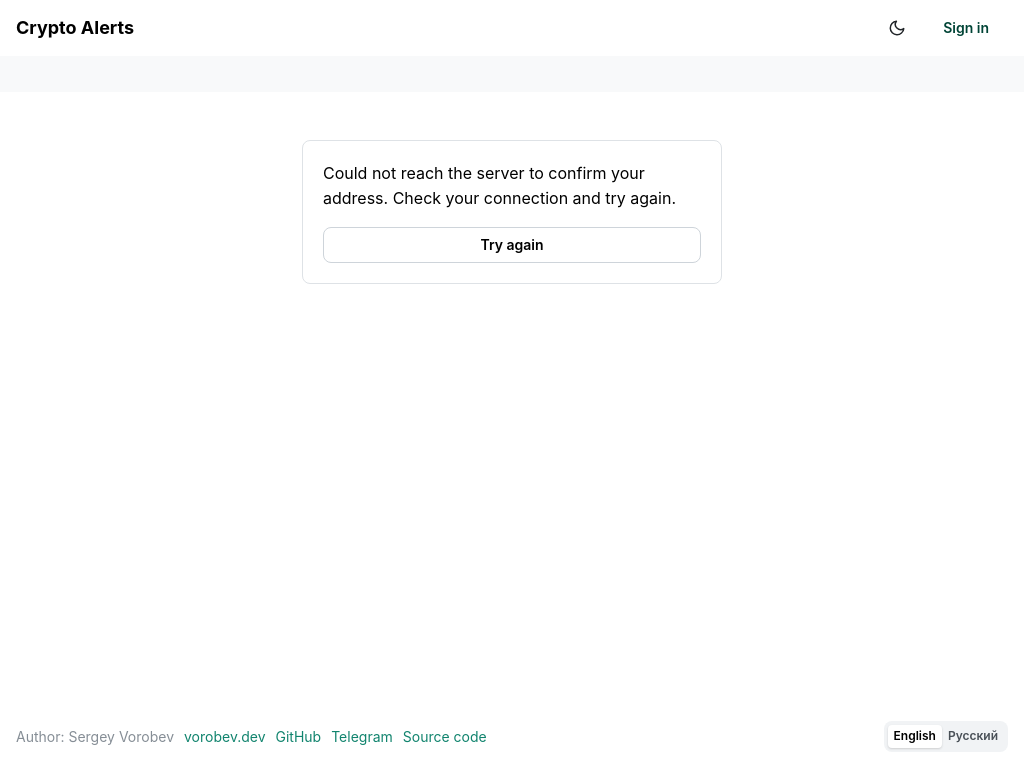
Test: the Verification landing › says a failed request is a failed request, not an answer about the link
Expected: the text "Could not reach the server to confirm your address. Check your connection and try again." is shown, [323,163,676,208]
Click the button "Try again": (512,245) [323,227,701,263]
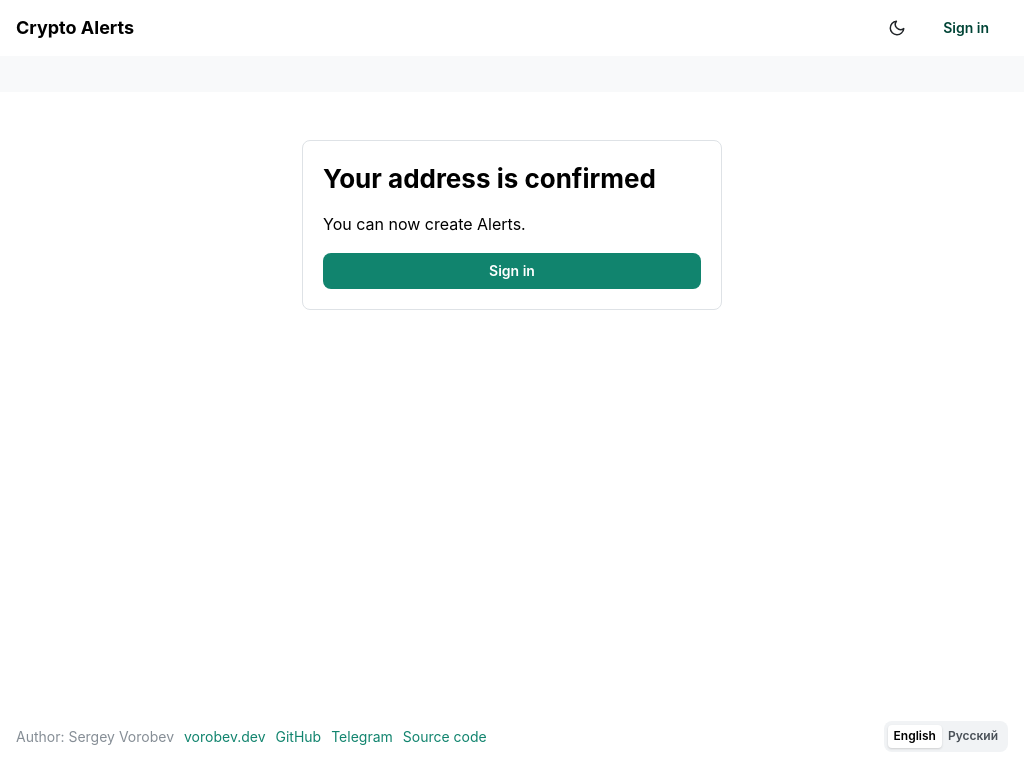
Now the heading "Your address is confirmed" is shown, box [323,161,701,196]
